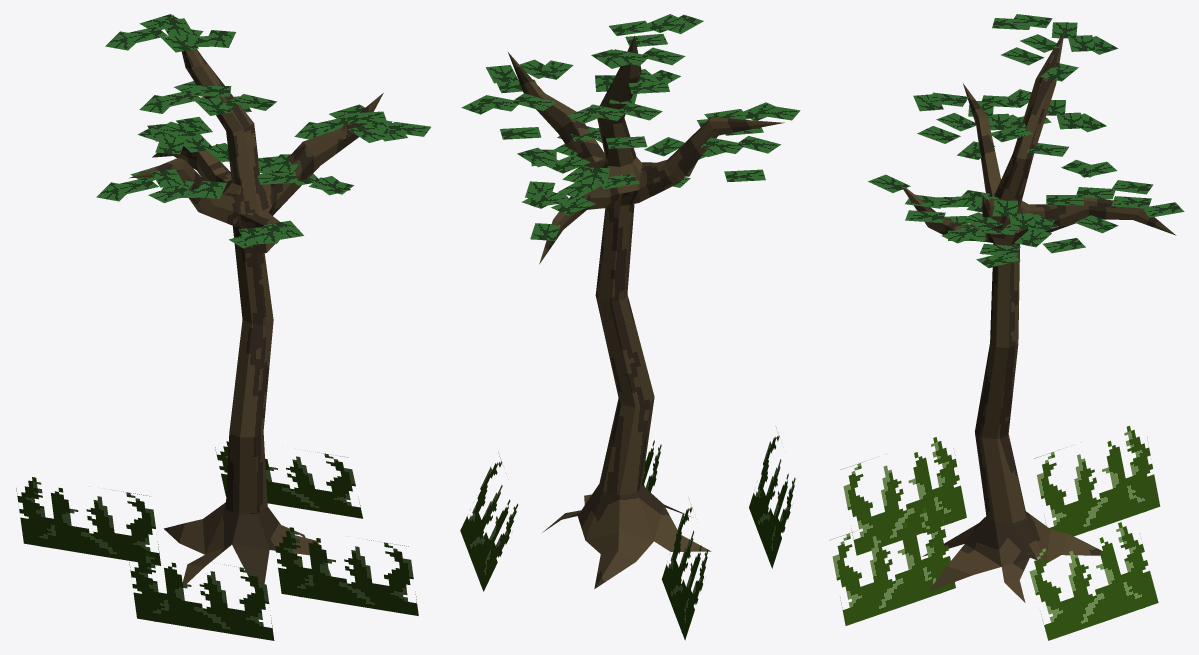
Rendered from Tree-and-IndividualGrass.fbx.
The picture shows the model from 3 angles, left to right: view 1: azimuth 30°, elevation 25°; view 2: azimuth 150°, elevation 25°; view 3: azimuth 270°, elevation 25°; orthographic projection. The views are drawn at different scales.
Visible parts, largest first — view 1: Tree, IndividualGrass; view 2: Tree, IndividualGrass; view 3: Tree, IndividualGrass.
Part boxes in pixels (<box>): Tree: <box>96,14,430,587</box>; IndividualGrass: <box>16,441,418,640</box>; Tree: <box>461,14,800,588</box>; IndividualGrass: <box>460,427,795,640</box>; Tree: <box>868,14,1184,602</box>; IndividualGrass: <box>829,425,1160,640</box>.
Size of the model in its own units: 183 by 302 by 181.
Materials: 2 (2 with a texture image).
